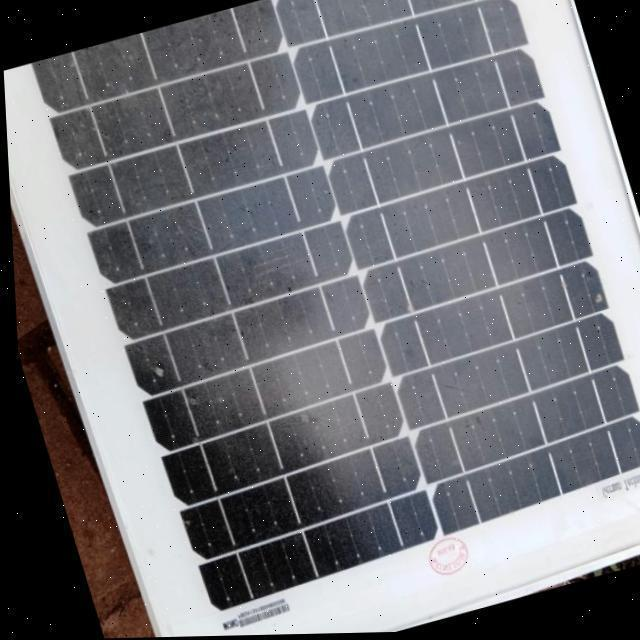Surface Contaminant: (13, 0, 640, 622)
